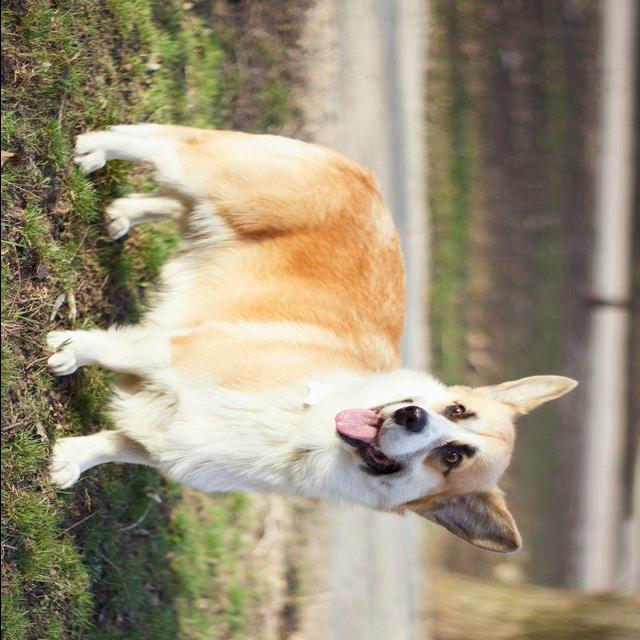corgi: (42, 122, 580, 555)
